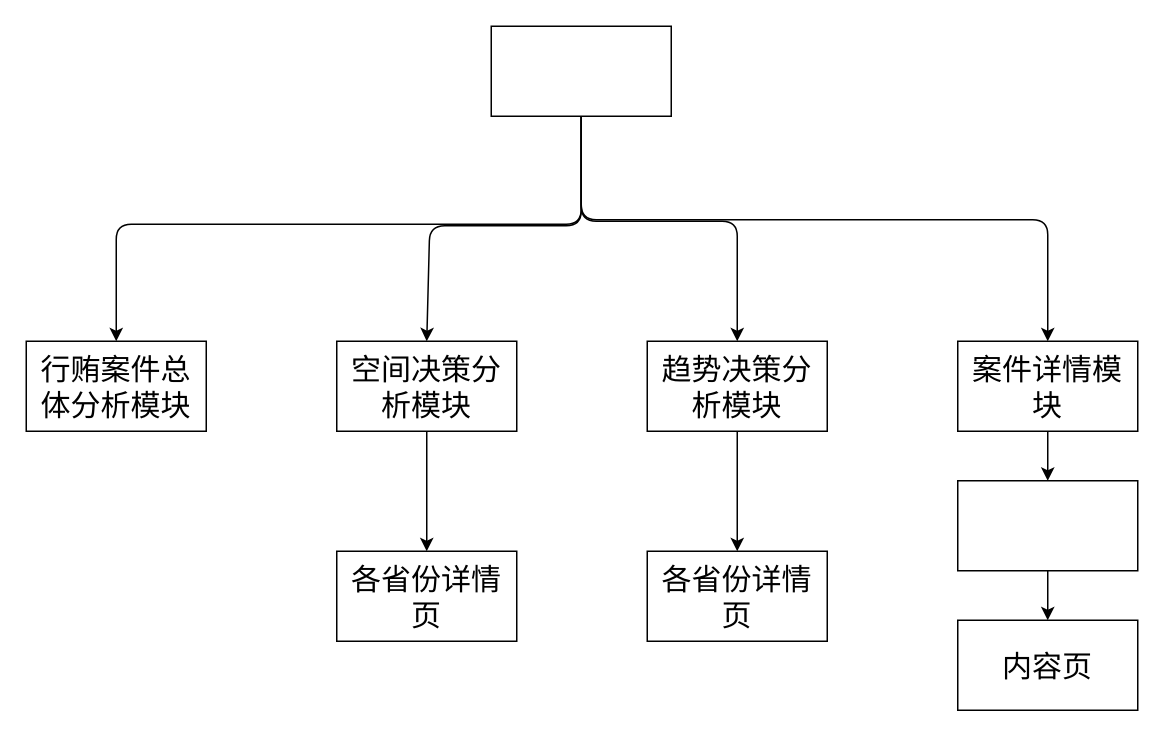
The diagram is 1164 pixels wide and 737 high, and some of its shapes have lost their labels. Here are the shapes that lost their labels. From the top down, the centre of each, then its label:
At pixel 580 70: "登陆界面".
At pixel 1047 525: "搜索页面".
